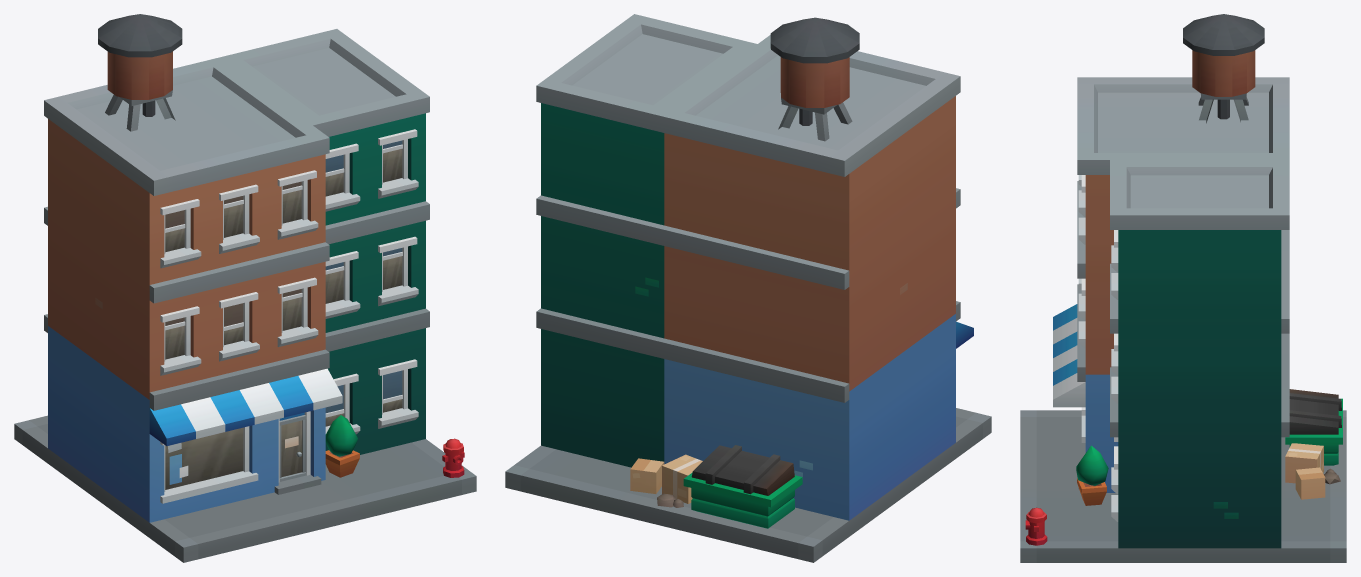
Rendered from kkcity.building_g.glb.
3 renders of one model, left to right at view 1: azimuth 30°, elevation 25°; view 2: azimuth 150°, elevation 25°; view 3: azimuth 270°, elevation 25°, orthographic. The views are drawn at different scales.
Visible parts, largest first — view 1: building_G; view 2: building_G; view 3: building_G.
Boxes of the visible parts, x1,y1,x2,y2 form: building_G: [14, 14, 476, 562]; building_G: [505, 14, 991, 562]; building_G: [1020, 14, 1346, 562].
Size of the model in its own units: 9.63 by 14.28 by 9.59.
1 material, 1 textured.
